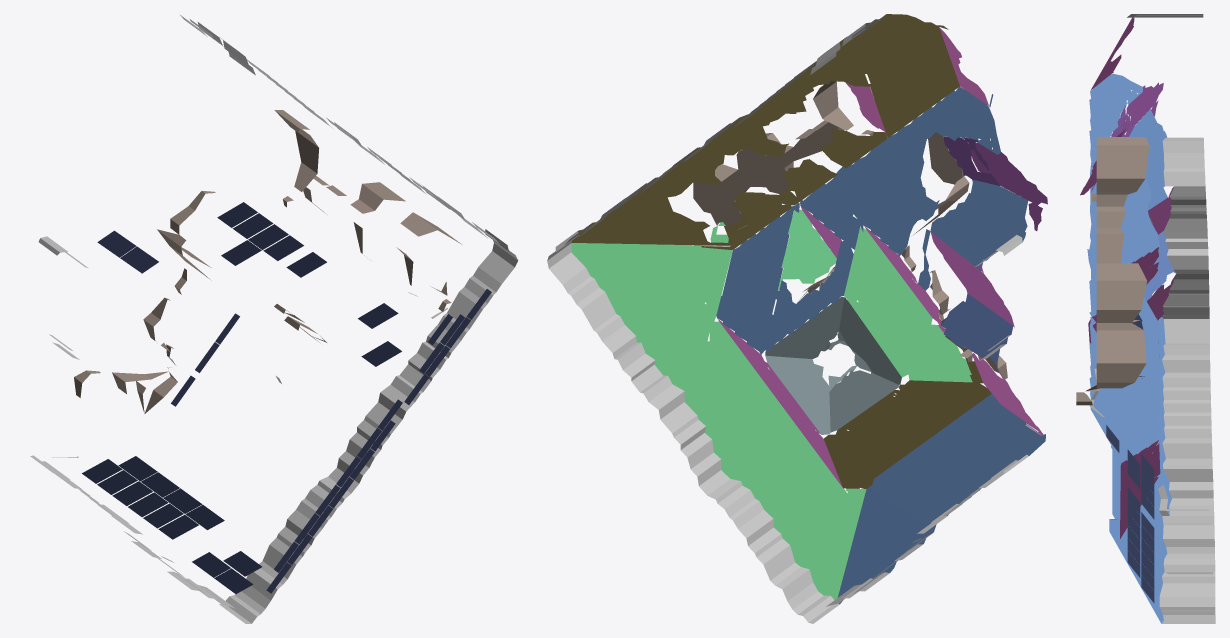
File: roof_with_panels.glb
3 renders of one model, left to right at view 1: azimuth 30°, elevation 25°; view 2: azimuth 150°, elevation 25°; view 3: azimuth 270°, elevation 25°, orthographic. The views are drawn at different scales.
Parts seen in each view (by area): view 1: geometry_0; view 2: geometry_0; view 3: geometry_0.
Boxes of the visible parts, box(x1,y1,x2,y2) form: geometry_0: box(30, 15, 518, 623); geometry_0: box(547, 14, 1047, 623); geometry_0: box(1076, 14, 1215, 623).
Size of the model in its own units: 27.6 by 33.2 by 7.22.
